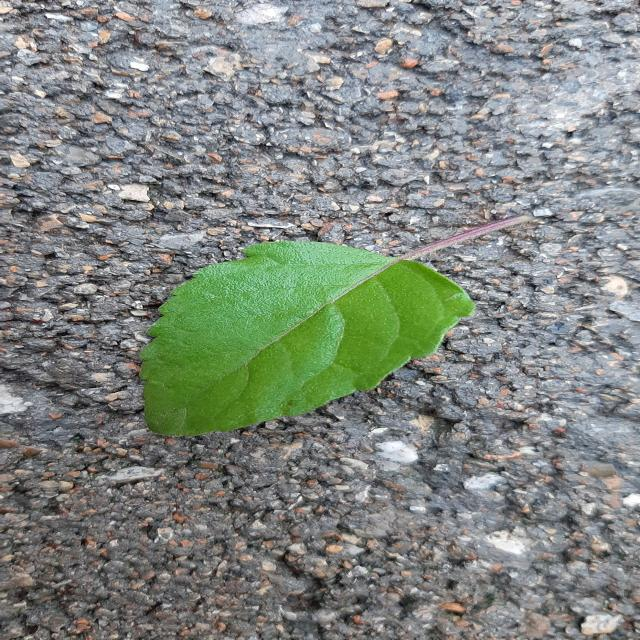tulsi: (141, 215, 534, 436)
